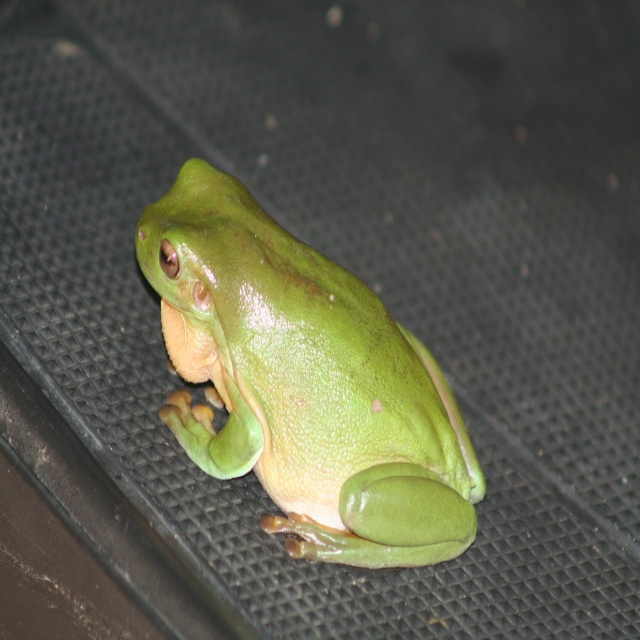Frog: (134, 157, 488, 572)
